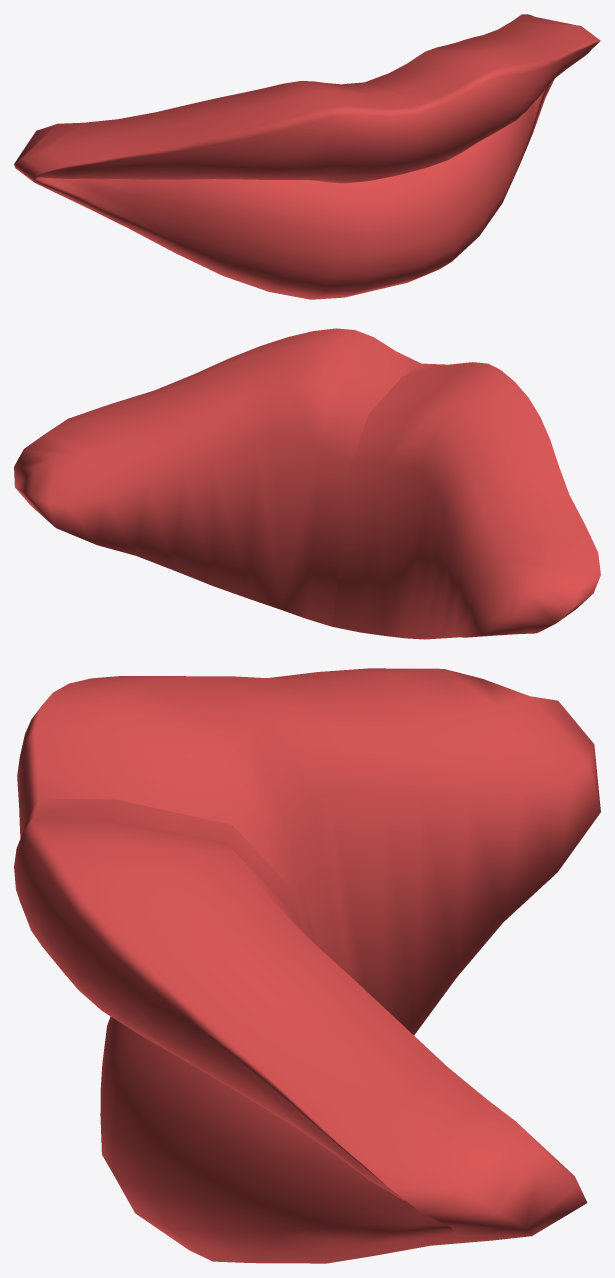
File: zui_ba.fbx
3 views of the same model, one above another, from view 1: azimuth 30°, elevation 25°; view 2: azimuth 150°, elevation 25°; view 3: azimuth 270°, elevation 25° (orthographic). The views are drawn at different scales.
Parts seen in each view (by area): view 1: default1; view 2: default1; view 3: default1.
Boxes of the visible parts, x1,y1,x2,y2 form: default1: [14, 14, 600, 299]; default1: [14, 328, 600, 639]; default1: [14, 668, 600, 1263].
Bounding box in the file's own units: 3.21 × 1.27 × 1.55.
